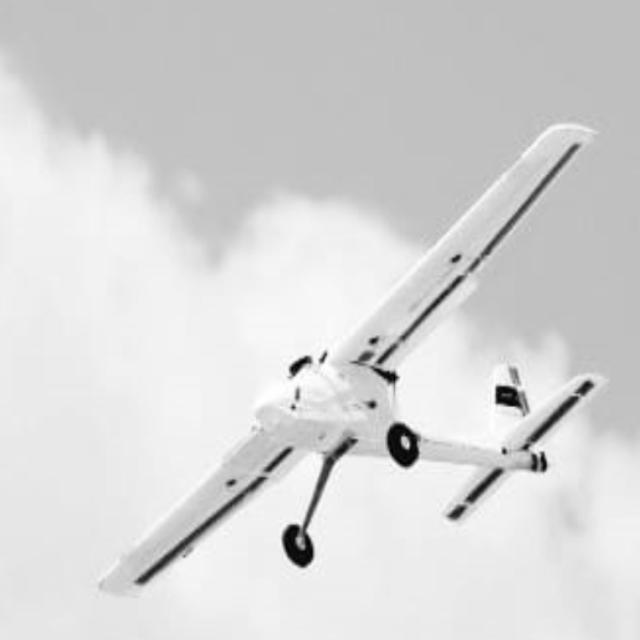iha: (36, 59, 604, 594)
